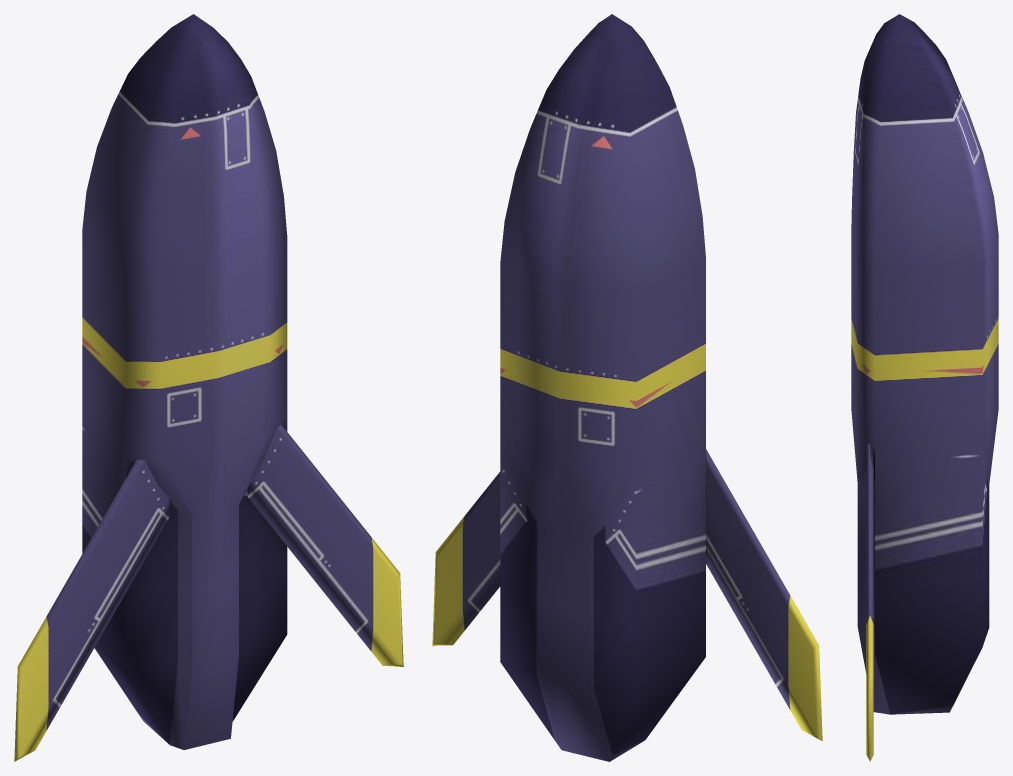
Rendered from Bumpkin_40fanim.FBX.
3 renders of one model, left to right at view 1: azimuth 30°, elevation 25°; view 2: azimuth 150°, elevation 25°; view 3: azimuth 270°, elevation 25°, orthographic. The views are drawn at different scales.
Parts seen in each view (by area): view 1: Bumpkin; view 2: Bumpkin; view 3: Bumpkin.
Boxes of the visible parts, x1,y1,x2,y2 form: Bumpkin: [14, 14, 403, 761]; Bumpkin: [432, 14, 822, 761]; Bumpkin: [851, 14, 998, 761].
Bounding box in the file's own units: 58.78 × 104 × 20.22.
Materials: 1 (1 with a texture image).
